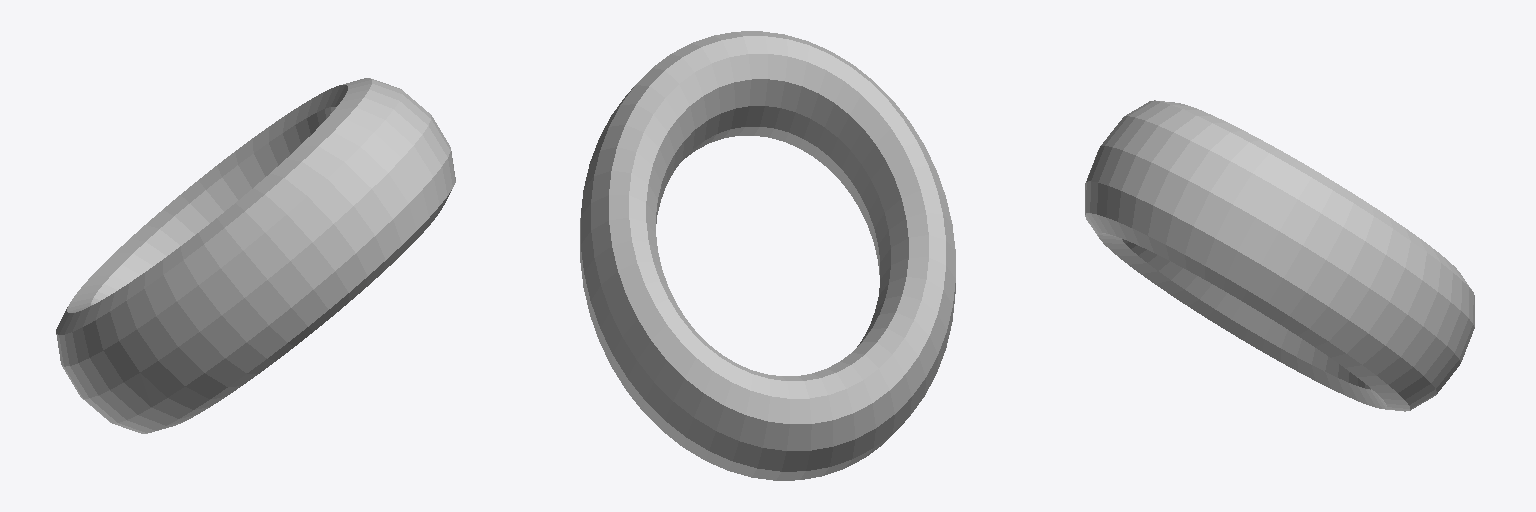
Rendered from tors.obj.
3 views of the same model, side by side, from view 1: azimuth 30°, elevation 25°; view 2: azimuth 150°, elevation 25°; view 3: azimuth 270°, elevation 25° (orthographic).
Parts seen in each view (by area): view 1: Torus; view 2: Torus; view 3: Torus.
Part boxes in pixels (left/top/right/bottom): Torus: left=56, top=78, right=455, bottom=433; Torus: left=580, top=31, right=955, bottom=480; Torus: left=1085, top=100, right=1474, bottom=411.
Bounding box in the file's own units: 1.03 × 1.01 × 1.04.